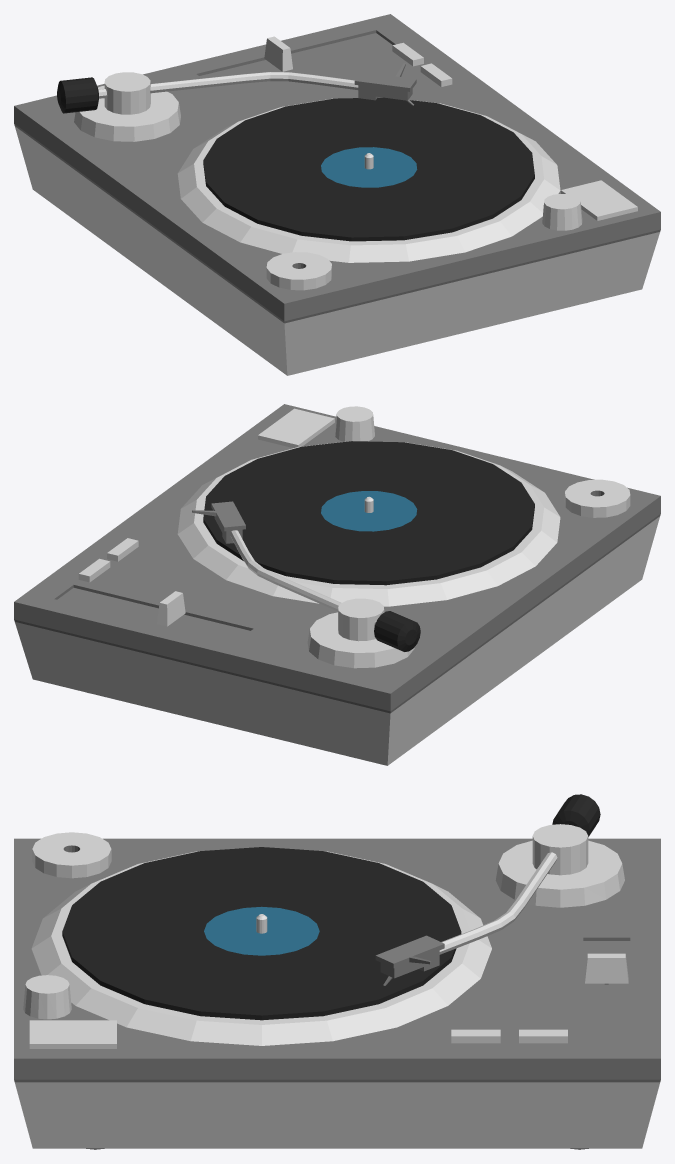
File: turntable.glb
3 renders of one model, top to bottom at view 1: azimuth 30°, elevation 25°; view 2: azimuth 150°, elevation 25°; view 3: azimuth 270°, elevation 25°, orthographic. The views are drawn at different scales.
Parts seen in each view (by area): view 1: Record_Player; view 2: Record_Player; view 3: Record_Player.
Part boxes in pixels (x1,y1,x2,y2): Record_Player: [14, 14, 660, 375]; Record_Player: [14, 404, 660, 765]; Record_Player: [14, 794, 660, 1149].
Bounding box in the file's own units: 60.49 × 20.5 × 75.21.
Materials: 1 (1 with a texture image).
